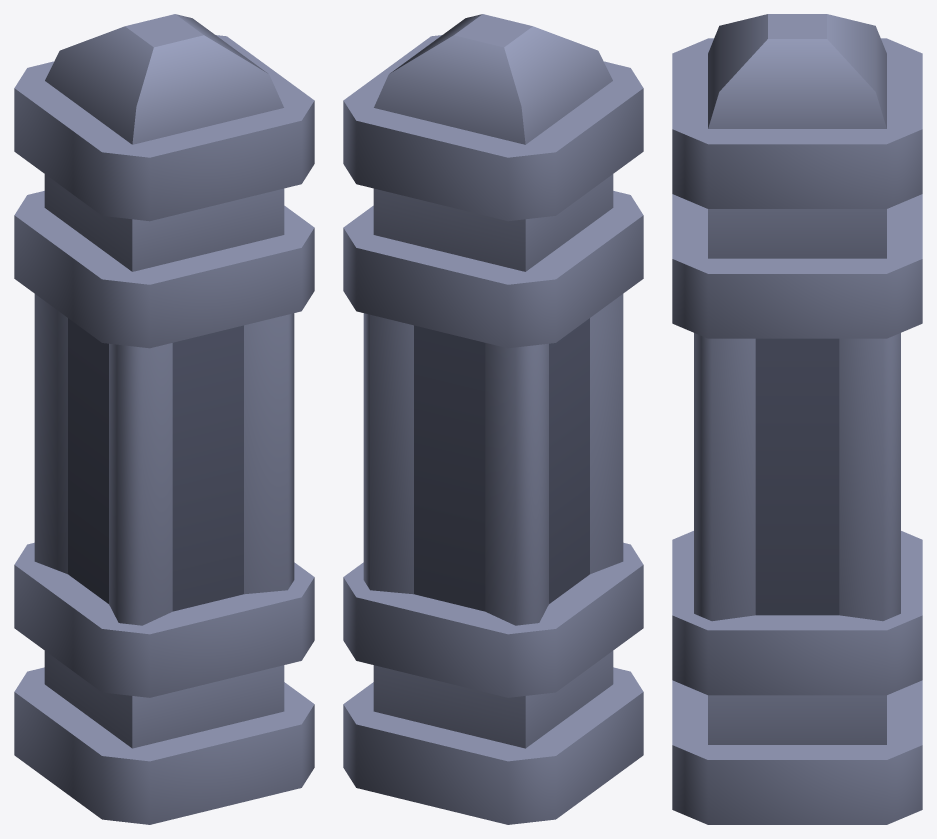
File: pillar-square.glb
3 renders of one model, left to right at view 1: azimuth 30°, elevation 25°; view 2: azimuth 150°, elevation 25°; view 3: azimuth 270°, elevation 25°, orthographic. The views are drawn at different scales.
Parts seen in each view (by area): view 1: pillar-square; view 2: pillar-square; view 3: pillar-square.
Boxes of the visible parts, x1=… form: pillar-square: x1=14, y1=14, x2=314, y2=824; pillar-square: x1=343, y1=14, x2=643, y2=824; pillar-square: x1=672, y1=14, x2=922, y2=824.
Size of the model in its own units: 0.35 by 1.15 by 0.35.
